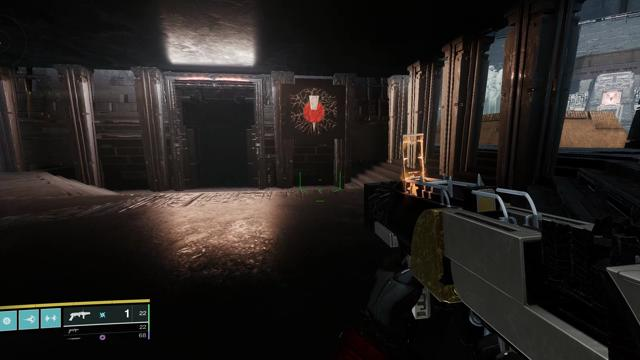kill: (289, 88, 338, 137)
